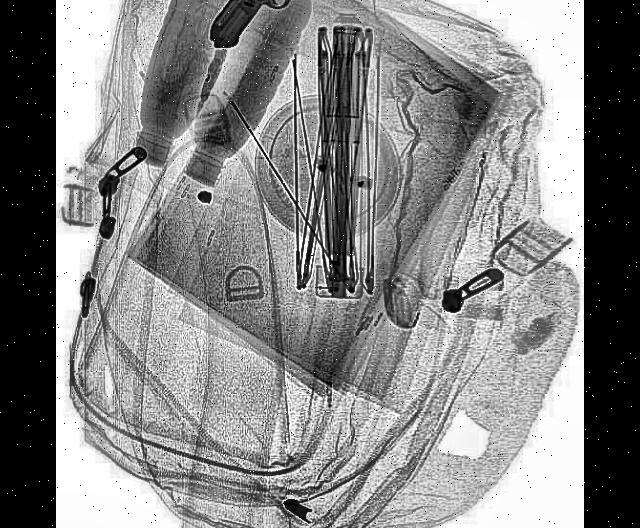Gun: (209, 0, 354, 69)
